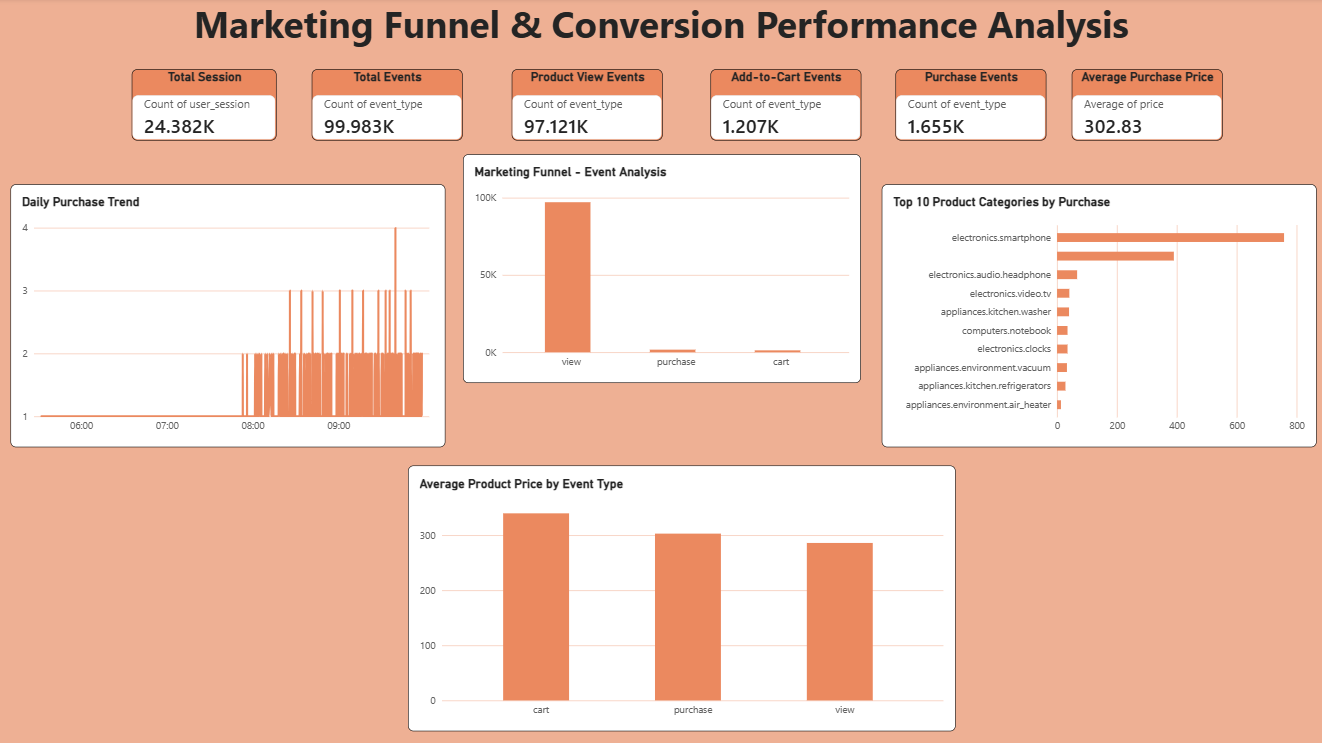

Layout of this report page (visuals, bound fields, positions):
{"tool":"powerbi","page":{"name":"Page 1","canvas":[1920,1080],"ordinal":0},"visuals":[{"type":"cardVisual","title":"Total Session","fields":{"Data":["Count(ecommerce_sample_100k.user_session)"]},"box":[193.5,102.9,209.9,102.9],"z":0},{"type":"cardVisual","title":"Total Events","fields":{"Data":["CountNonNull(ecommerce_sample_100k.event_type)"]},"box":[454.9,102.9,218.2,102.9],"z":1},{"type":"cardVisual","title":"Product View Events","fields":{"Data":["CountNonNull(ecommerce_sample_100k.event_type)"]},"box":[743.1,102.9,218.2,102.9],"z":2},{"type":"cardVisual","title":"Add-to-Cart Events","fields":{"Data":["CountNonNull(ecommerce_sample_100k.event_type)"]},"box":[1031.2,102.9,218.2,102.9],"z":3},{"type":"cardVisual","title":"Purchase Events","fields":{"Data":["CountNonNull(ecommerce_sample_100k.event_type)"]},"box":[1298.8,102.9,218.2,102.9],"z":4},{"type":"clusteredColumnChart","title":"Marketing Funnel - Event Analysis","fields":{"Category":["ecommerce_sample_100k.event_type"],"Y":["CountNonNull(ecommerce_sample_100k.event_type)"]},"box":[673.1,226.4,576.3,331.4],"z":5},{"type":"lineChart","title":"Daily Purchase Trend","fields":{"Category":["ecommerce_sample_100k.event_time"],"Y":["CountNonNull(ecommerce_sample_100k.event_type)"]},"box":[18.5,269.6,629.8,380.8],"z":6},{"type":"clusteredBarChart","title":"Top 10 Product Categories by Purchase","fields":{"Category":["ecommerce_sample_100k.category_code"],"Y":["CountNonNull(ecommerce_sample_100k.product_id)"]},"box":[1280.3,269.6,629.8,380.8],"z":7},{"type":"cardVisual","title":"Average Purchase Price","fields":{"Data":["Avg(ecommerce_sample_100k.price)"]},"box":[1554,102.9,218.2,102.9],"z":8},{"type":"clusteredColumnChart","title":"Average Product Price by Event Type","fields":{"Category":["ecommerce_sample_100k.event_type"],"Y":["Avg(ecommerce_sample_100k.price)"]},"box":[592.8,677.2,792.5,384.9],"z":9},{"type":"textbox","box":[0,0,1920.4,86.4],"z":11}]}

Visuals, with their boxes in screenshot pixels (x1, y1, x2, y2), scaled from the page's 1920x1080 canvas onto the 1322x743 screenshot:
"Total Session" cardVisual: (left=133, top=71, right=278, bottom=142)
"Total Events" cardVisual: (left=313, top=71, right=463, bottom=142)
"Product View Events" cardVisual: (left=512, top=71, right=662, bottom=142)
"Add-to-Cart Events" cardVisual: (left=710, top=71, right=860, bottom=142)
"Purchase Events" cardVisual: (left=894, top=71, right=1045, bottom=142)
"Marketing Funnel - Event Analysis" clusteredColumnChart: (left=463, top=156, right=860, bottom=384)
"Daily Purchase Trend" lineChart: (left=13, top=185, right=446, bottom=447)
"Top 10 Product Categories by Purchase" clusteredBarChart: (left=882, top=185, right=1315, bottom=447)
"Average Purchase Price" cardVisual: (left=1070, top=71, right=1220, bottom=142)
"Average Product Price by Event Type" clusteredColumnChart: (left=408, top=466, right=954, bottom=731)
textbox: (left=0, top=0, right=1321, bottom=59)
